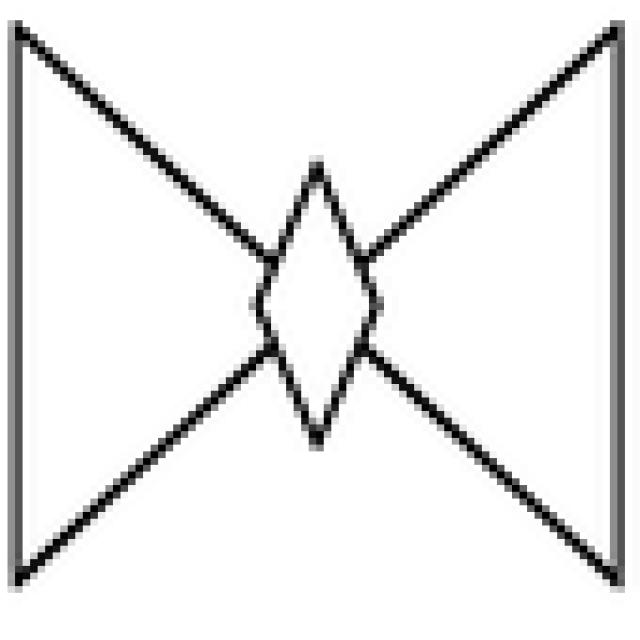Plug Valve: (16, 33, 623, 585)
